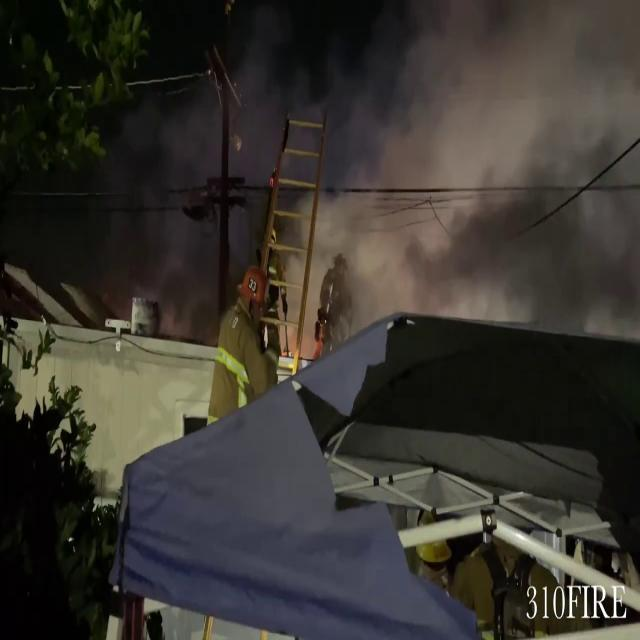Smoke: (119, 0, 639, 332)
